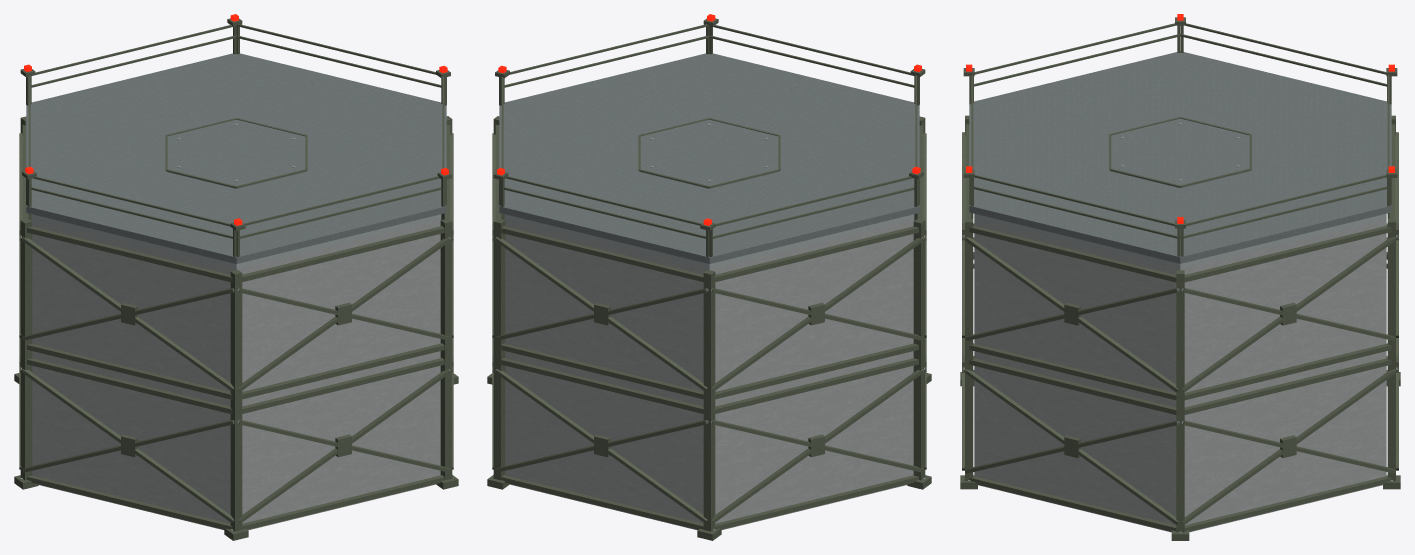
File: terminal.glb
3 views of the same model, side by side, from view 1: azimuth 30°, elevation 25°; view 2: azimuth 150°, elevation 25°; view 3: azimuth 270°, elevation 25° (orthographic).
Visible parts, largest first — view 1: terminal-lod0-roof0, terminal-lod0-floor0, terminal-lod0-base0; view 2: terminal-lod0-roof0, terminal-lod0-floor0, terminal-lod0-base0; view 3: terminal-lod0-roof0, terminal-lod0-floor0, terminal-lod0-base0.
Part boxes in pixels (<box>): terminal-lod0-roof0: <box>20,14,452,269</box>; terminal-lod0-floor0: <box>19,116,453,406</box>; terminal-lod0-base0: <box>14,338,458,540</box>; terminal-lod0-roof0: <box>493,14,925,269</box>; terminal-lod0-floor0: <box>492,116,926,406</box>; terminal-lod0-base0: <box>487,338,931,540</box>; terminal-lod0-roof0: <box>963,14,1397,269</box>; terminal-lod0-floor0: <box>962,115,1398,406</box>; terminal-lod0-base0: <box>960,252,1400,540</box>.
Size of what is drawn, in the model's own units: 62.24 by 43.07 by 54.2.
Materials: 6 (6 with a texture image).
